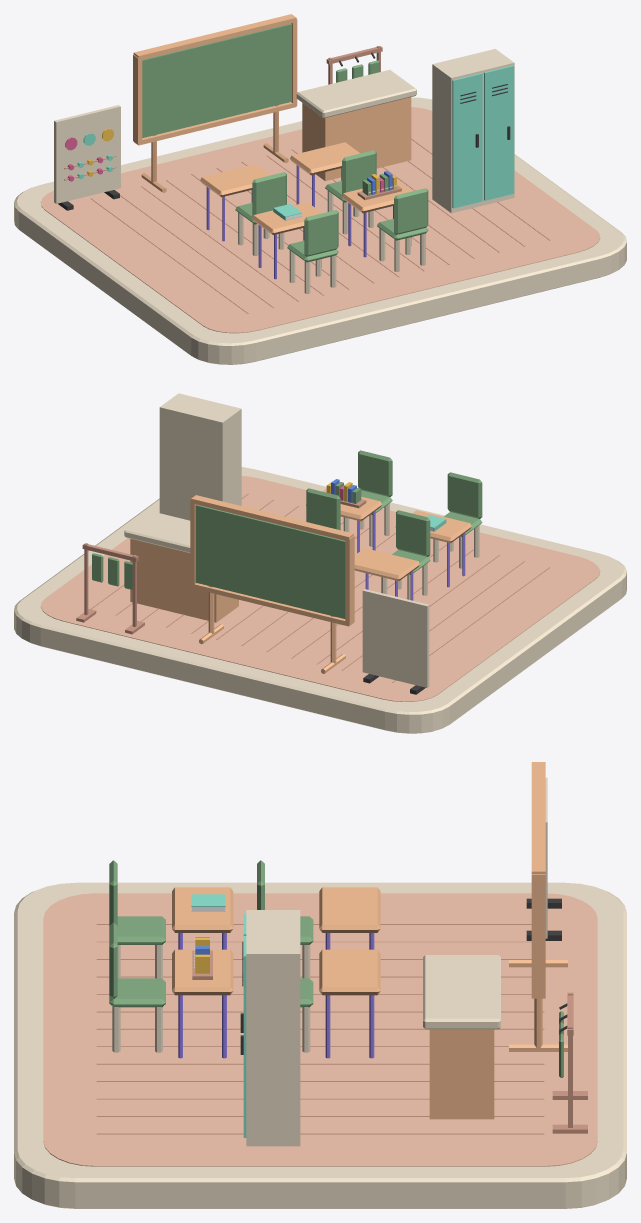
File: room.fbx
3 views of the same model, one above another, from view 1: azimuth 30°, elevation 25°; view 2: azimuth 150°, elevation 25°; view 3: azimuth 270°, elevation 25° (orthographic). The views are drawn at different scales.
Parts seen in each view (by area): view 1: COM-02 Floor Surface, COM-01 Rounded Base Direct, Board, Desk body, Panel, Case, Door.001, Door, Desk top, Rail.001, Backrest, Backrest.001 (+9 smaller); view 2: COM-02 Floor Surface, COM-01 Rounded Base Direct, Board, Case, Panel, Desk body, Desk top, Rail.001, Backrest, Rounded table top.002, Backrest.001, Backrest.002 (+6 smaller); view 3: COM-02 Floor Surface, COM-01 Rounded Base Direct, Case, Desk body, Desk top, Rounded table top.003, Rounded table top.002, Rounded table top, Rounded table top.001, Frame.001, Rail.001, Seat.001 (+6 smaller).
Boxes of the visible parts, x1,y1,x2,y2 form: COM-02 Floor Surface: [40, 107, 600, 333]; COM-01 Rounded Base Direct: [14, 97, 626, 364]; Board: [142, 23, 291, 137]; Desk body: [302, 97, 411, 181]; Panel: [54, 105, 120, 203]; Case: [432, 49, 514, 213]; Door.001: [484, 65, 514, 200]; Door: [452, 73, 482, 208]; Desk top: [296, 69, 416, 118]; Rail.001: [133, 14, 296, 60]; Backrest: [304, 210, 338, 256]; Backrest.001: [394, 188, 428, 234]; COM-02 Floor Surface: [40, 476, 600, 701]; COM-01 Rounded Base Direct: [14, 467, 626, 733]; Board: [195, 504, 345, 618]; Case: [159, 393, 241, 520]; Panel: [362, 589, 429, 687]; Desk body: [130, 538, 238, 622]; Desk top: [124, 511, 190, 552]; Rail.001: [191, 495, 353, 540]; Backrest: [447, 472, 482, 518]; Rounded table top.002: [354, 548, 419, 580]; Backrest.001: [358, 450, 392, 496]; Backrest.002: [396, 510, 430, 556]; COM-02 Floor Surface: [43, 893, 597, 1166]; COM-01 Rounded Base Direct: [14, 882, 626, 1208]; Case: [246, 910, 300, 1146]; Desk body: [429, 1029, 494, 1119]; Desk top: [423, 955, 500, 1029]; Rounded table top.003: [319, 949, 380, 995]; Rounded table top.002: [319, 887, 380, 932]; Rounded table top: [172, 887, 233, 932]; Rounded table top.001: [172, 949, 233, 995]; Frame.001: [531, 874, 545, 997]; Rail.001: [531, 762, 545, 874]; Seat.001: [109, 978, 165, 1007].
Size of the model in its own units: 600 by 210 by 520.
